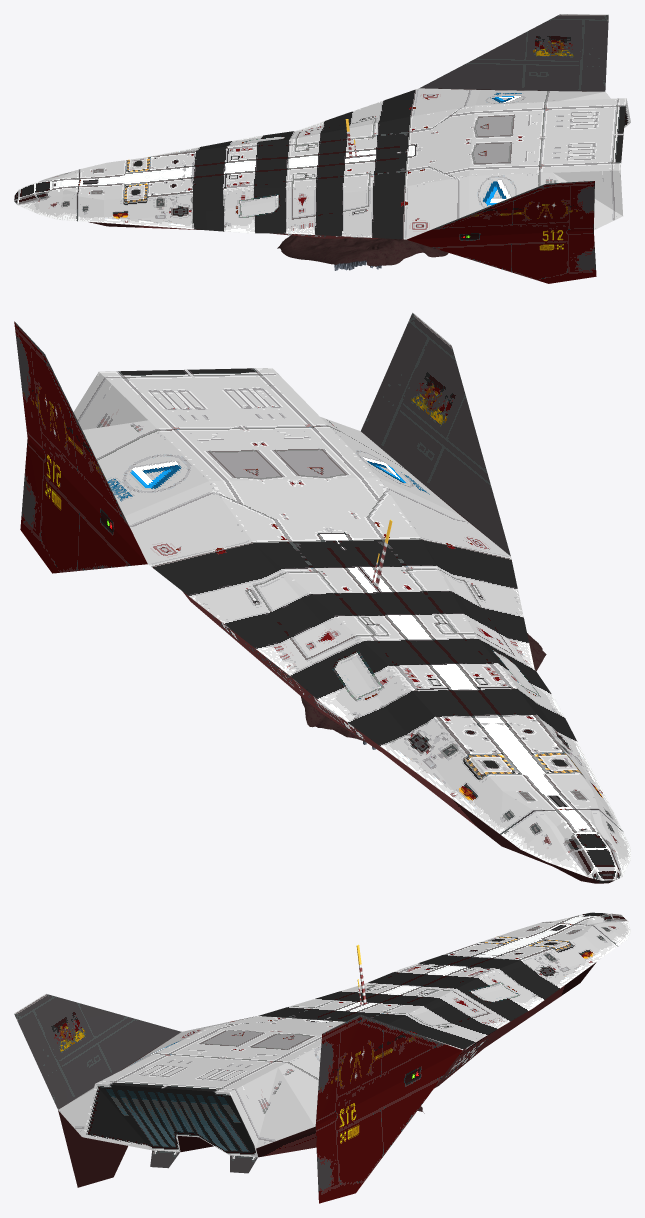
The model's file is red-desert.glb.
3 renders of one model, top to bottom at view 1: azimuth 30°, elevation 25°; view 2: azimuth 150°, elevation 25°; view 3: azimuth 270°, elevation 25°, orthographic. The views are drawn at different scales.
Parts seen in each view (by area): view 1: Cube, SnowGround; view 2: Cube, SnowGround; view 3: Cube.
Boxes of the visible parts, <box> form: Cube: <box>14,14,630,283</box>; SnowGround: <box>277,235,448,266</box>; Cube: <box>14,312,630,883</box>; SnowGround: <box>301,633,546,741</box>; Cube: <box>14,912,630,1203</box>.
Size of the model in its own units: 544 by 217 by 455.
Materials: 3 (3 with a texture image).
